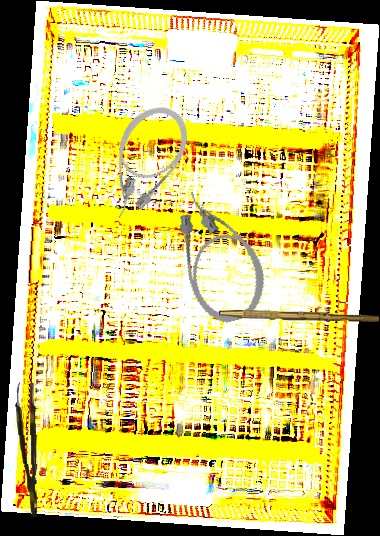Cannula: (83, 94, 202, 230), (167, 179, 274, 330)
Scalpel Handle: (218, 309, 380, 324)
Tissue Forceps: (14, 381, 40, 518)
